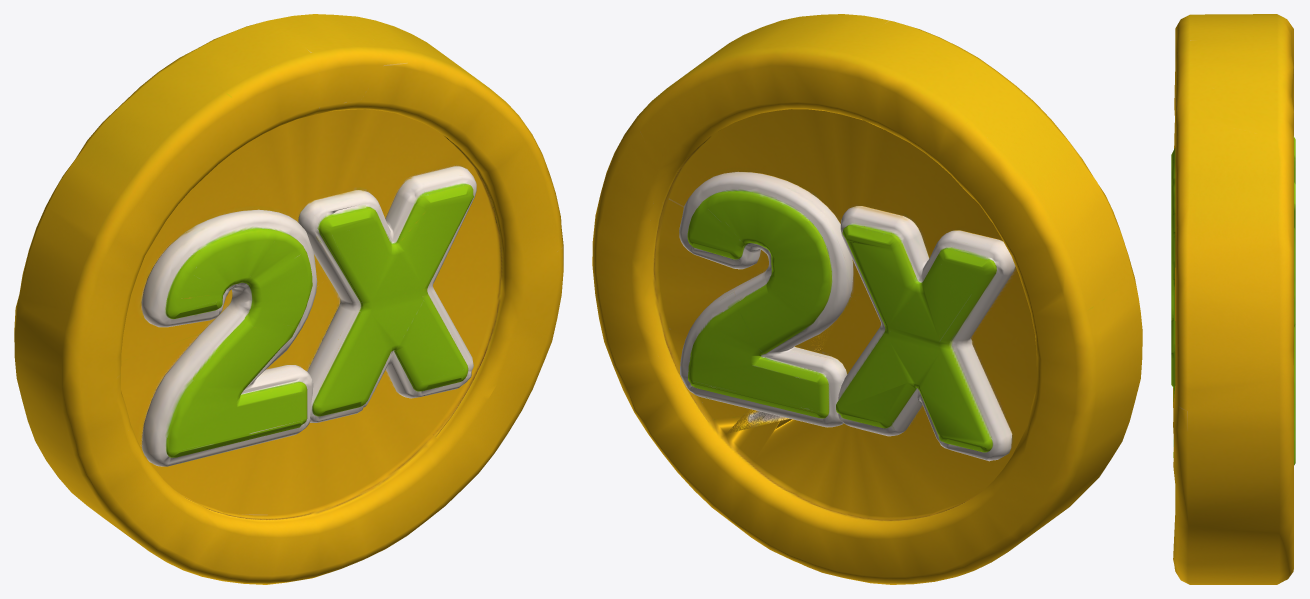
Rendered from robux_double_coins.glb.
The picture shows the model from 3 angles, left to right: view 1: azimuth 30°, elevation 25°; view 2: azimuth 150°, elevation 25°; view 3: azimuth 270°, elevation 25°; orthographic projection.
Size of the model in its own units: 0.9551 by 0.9517 by 0.2065.
Materials: 1 (1 with a texture image).
